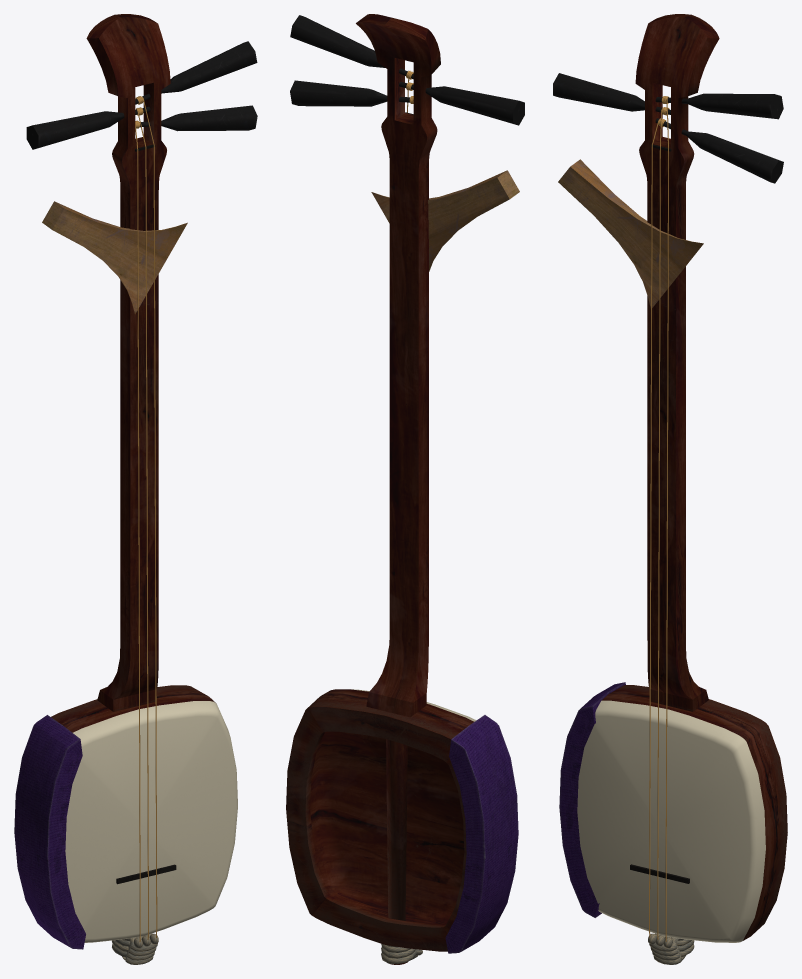
Rendered from Shamisen.fbx.
3 views of the same model, side by side, from view 1: azimuth 30°, elevation 25°; view 2: azimuth 150°, elevation 25°; view 3: azimuth 330°, elevation 25° (orthographic).
Parts seen in each view (by area): view 1: Shamisen; view 2: Shamisen; view 3: Shamisen.
Boxes of the visible parts, x1=… form: Shamisen: x1=14, y1=14, x2=257, y2=964; Shamisen: x1=286, y1=14, x2=524, y2=964; Shamisen: x1=553, y1=14, x2=787, y2=964.
Size of the model in its own units: 25.61 by 104 by 7.29.
